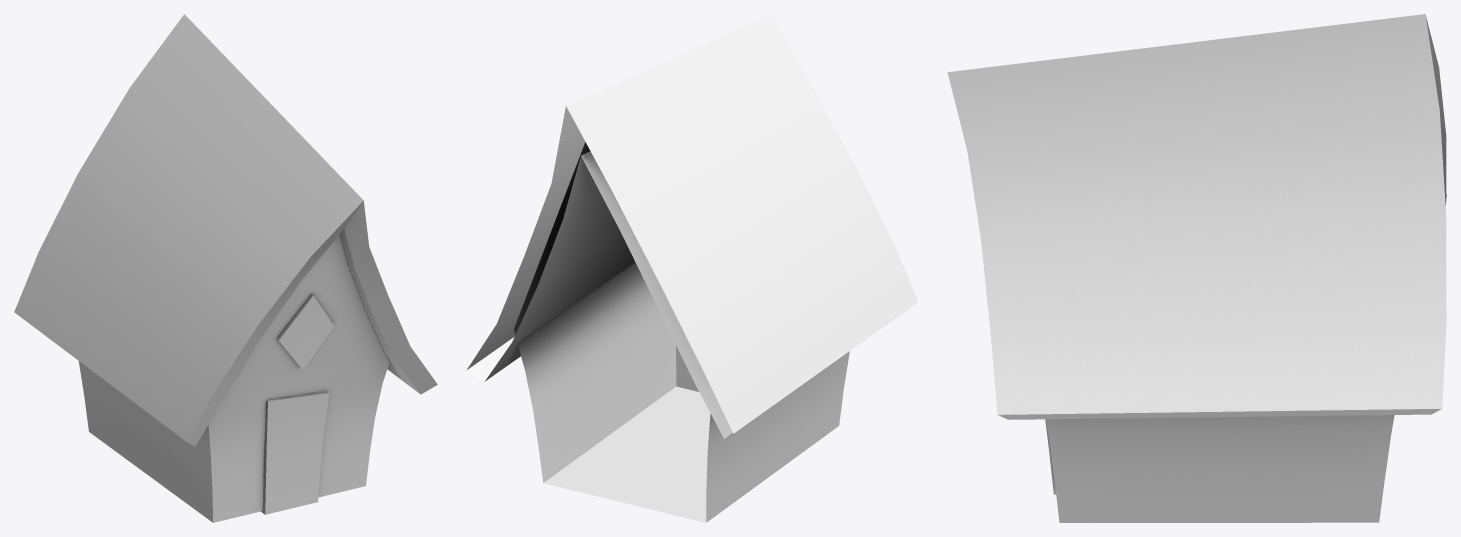
Rendered from a1_hut.fbx.
3 renders of one model, left to right at view 1: azimuth 30°, elevation 25°; view 2: azimuth 150°, elevation 25°; view 3: azimuth 270°, elevation 25°, orthographic. The views are drawn at different scales.
Visible parts, largest first — view 1: Cube; view 2: Cube; view 3: Cube.
Part boxes in pixels (<box>): Cube: <box>14,14,437,522</box>; Cube: <box>466,14,918,522</box>; Cube: <box>947,14,1446,522</box>.
Size of the model in its own units: 430 by 621 by 576.
1 material, 1 textured.
